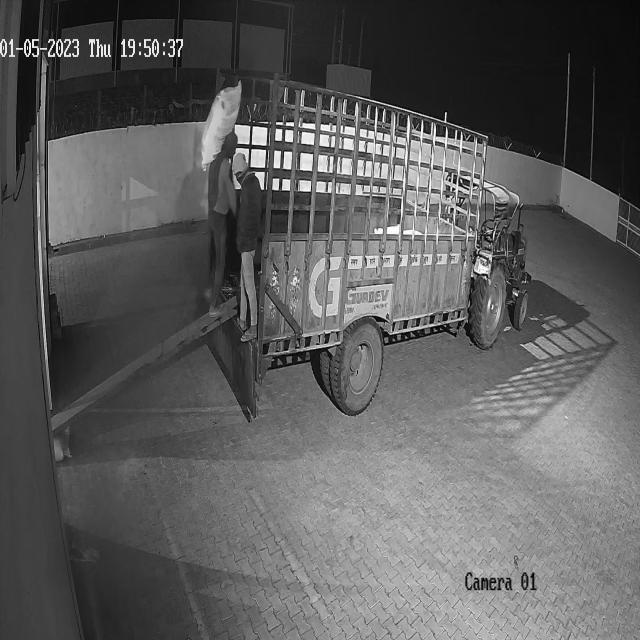sack: (200, 80, 242, 170)
